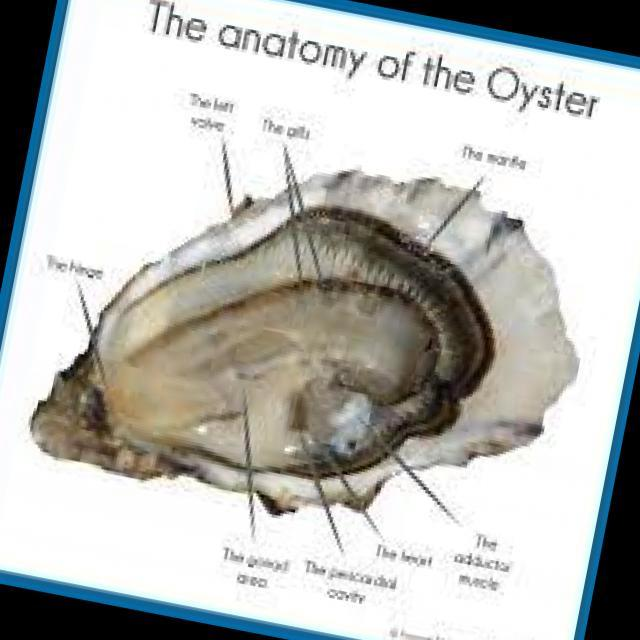Oyster-Open: (31, 170, 578, 514)
